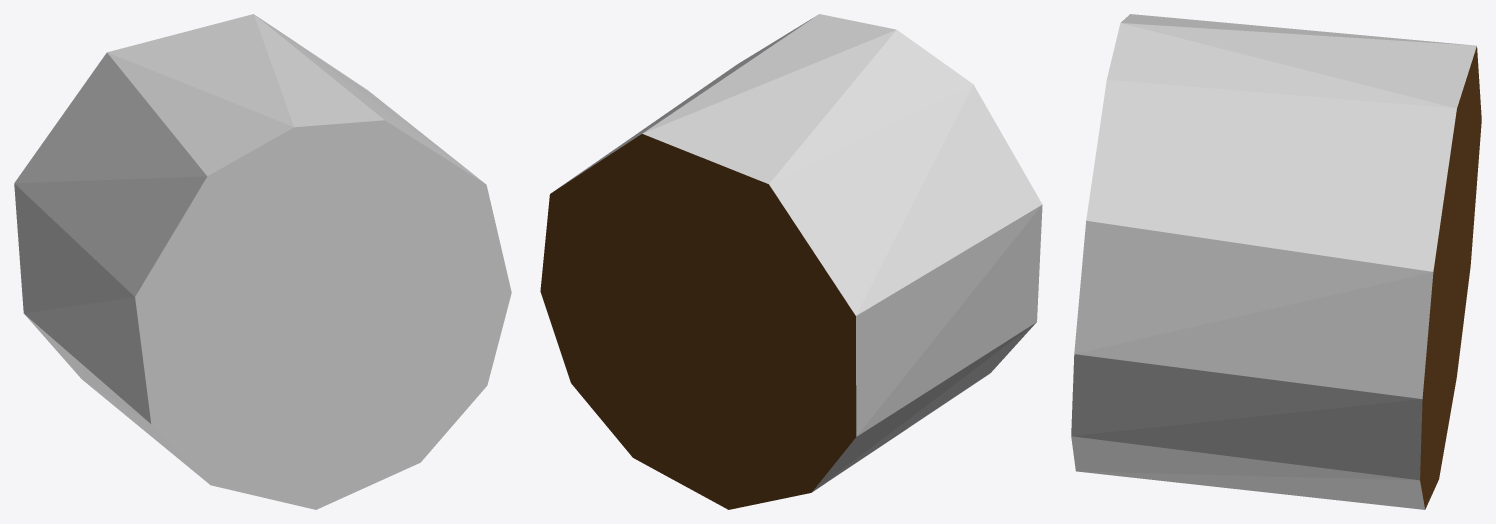
The model's file is torso_z_link_visual_11.obj.
The picture shows the model from 3 angles, left to right: view 1: azimuth 30°, elevation 25°; view 2: azimuth 150°, elevation 25°; view 3: azimuth 270°, elevation 25°; orthographic projection. The views are drawn at different scales.
Visible parts, largest first — view 1: i01.torso.topStom.full.012_visual.001; view 2: i01.torso.topStom.full.012_visual.001; view 3: i01.torso.topStom.full.012_visual.001.
Part boxes in pixels (left/top/right/bottom): i01.torso.topStom.full.012_visual.001: left=14, top=14, right=511, bottom=509; i01.torso.topStom.full.012_visual.001: left=540, top=14, right=1042, bottom=509; i01.torso.topStom.full.012_visual.001: left=1071, top=14, right=1481, bottom=509.
Bounding box in the file's own units: 0.0769 × 0.0755 × 0.0638.
